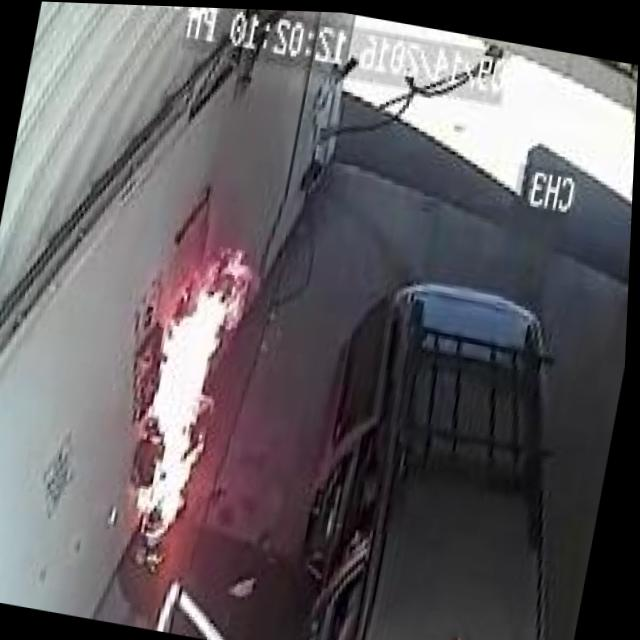fire: (99, 226, 266, 549)
